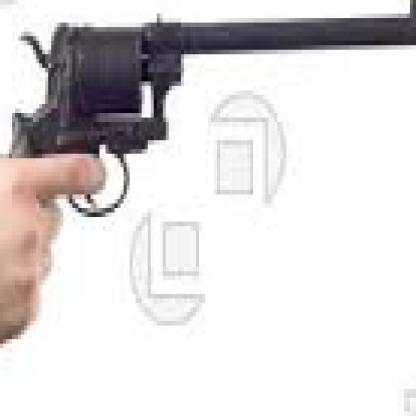gun: (0, 0, 413, 253)
